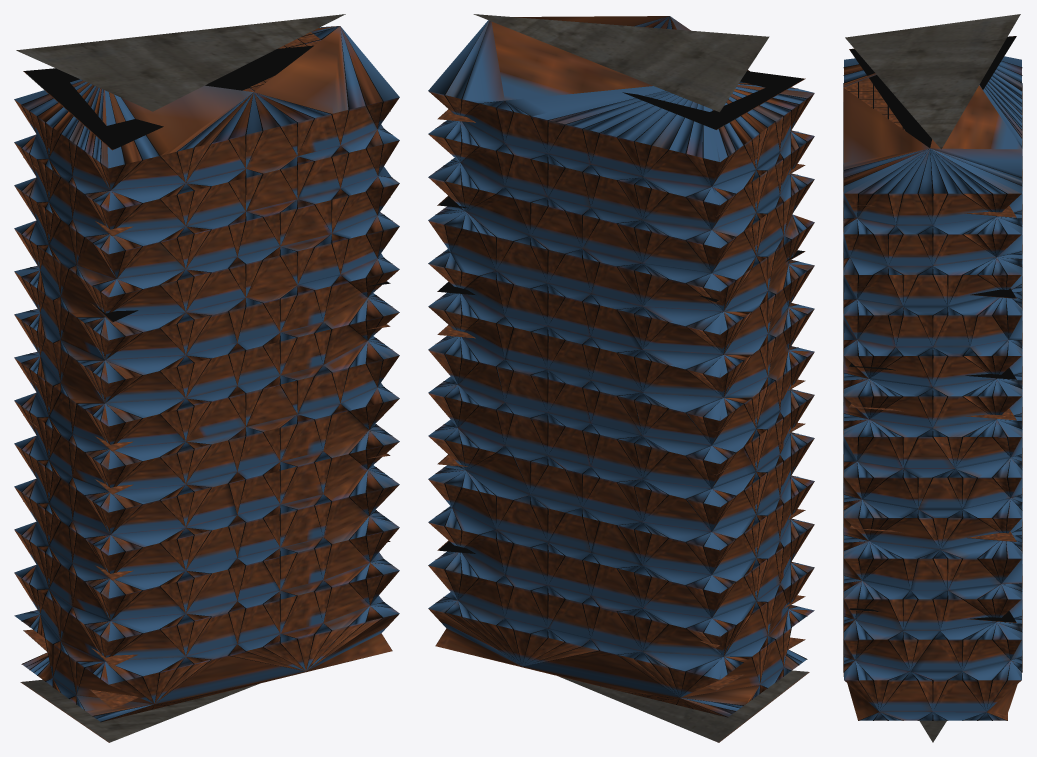
3 views of the same model, side by side, from view 1: azimuth 30°, elevation 25°; view 2: azimuth 150°, elevation 25°; view 3: azimuth 270°, elevation 25° (orthographic). The views are drawn at different scales.
Parts seen in each view (by area): view 1: Building-Big-Wide-02-BAKED.001; view 2: Building-Big-Wide-02-BAKED.001; view 3: Building-Big-Wide-02-BAKED.001.
Boxes of the visible parts, x1,y1,x2,y2 form: Building-Big-Wide-02-BAKED.001: [14, 14, 399, 742]; Building-Big-Wide-02-BAKED.001: [428, 14, 814, 742]; Building-Big-Wide-02-BAKED.001: [843, 14, 1022, 742].
Bounding box in the file's own units: 34.04 × 70.5 × 19.18.
Materials: 1 (1 with a texture image).
